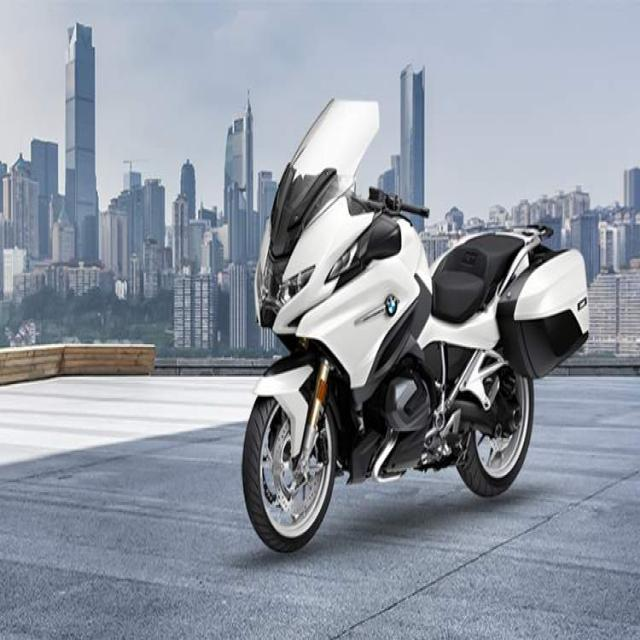bike: (241, 98, 587, 554)
